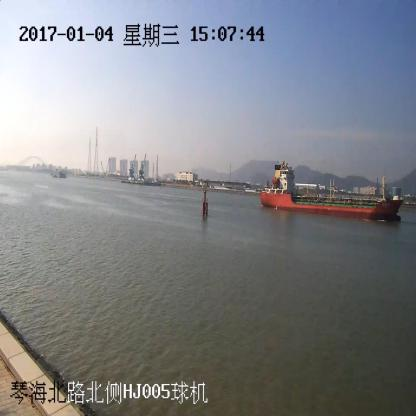Bulk Carrier: (260, 165, 402, 219)
